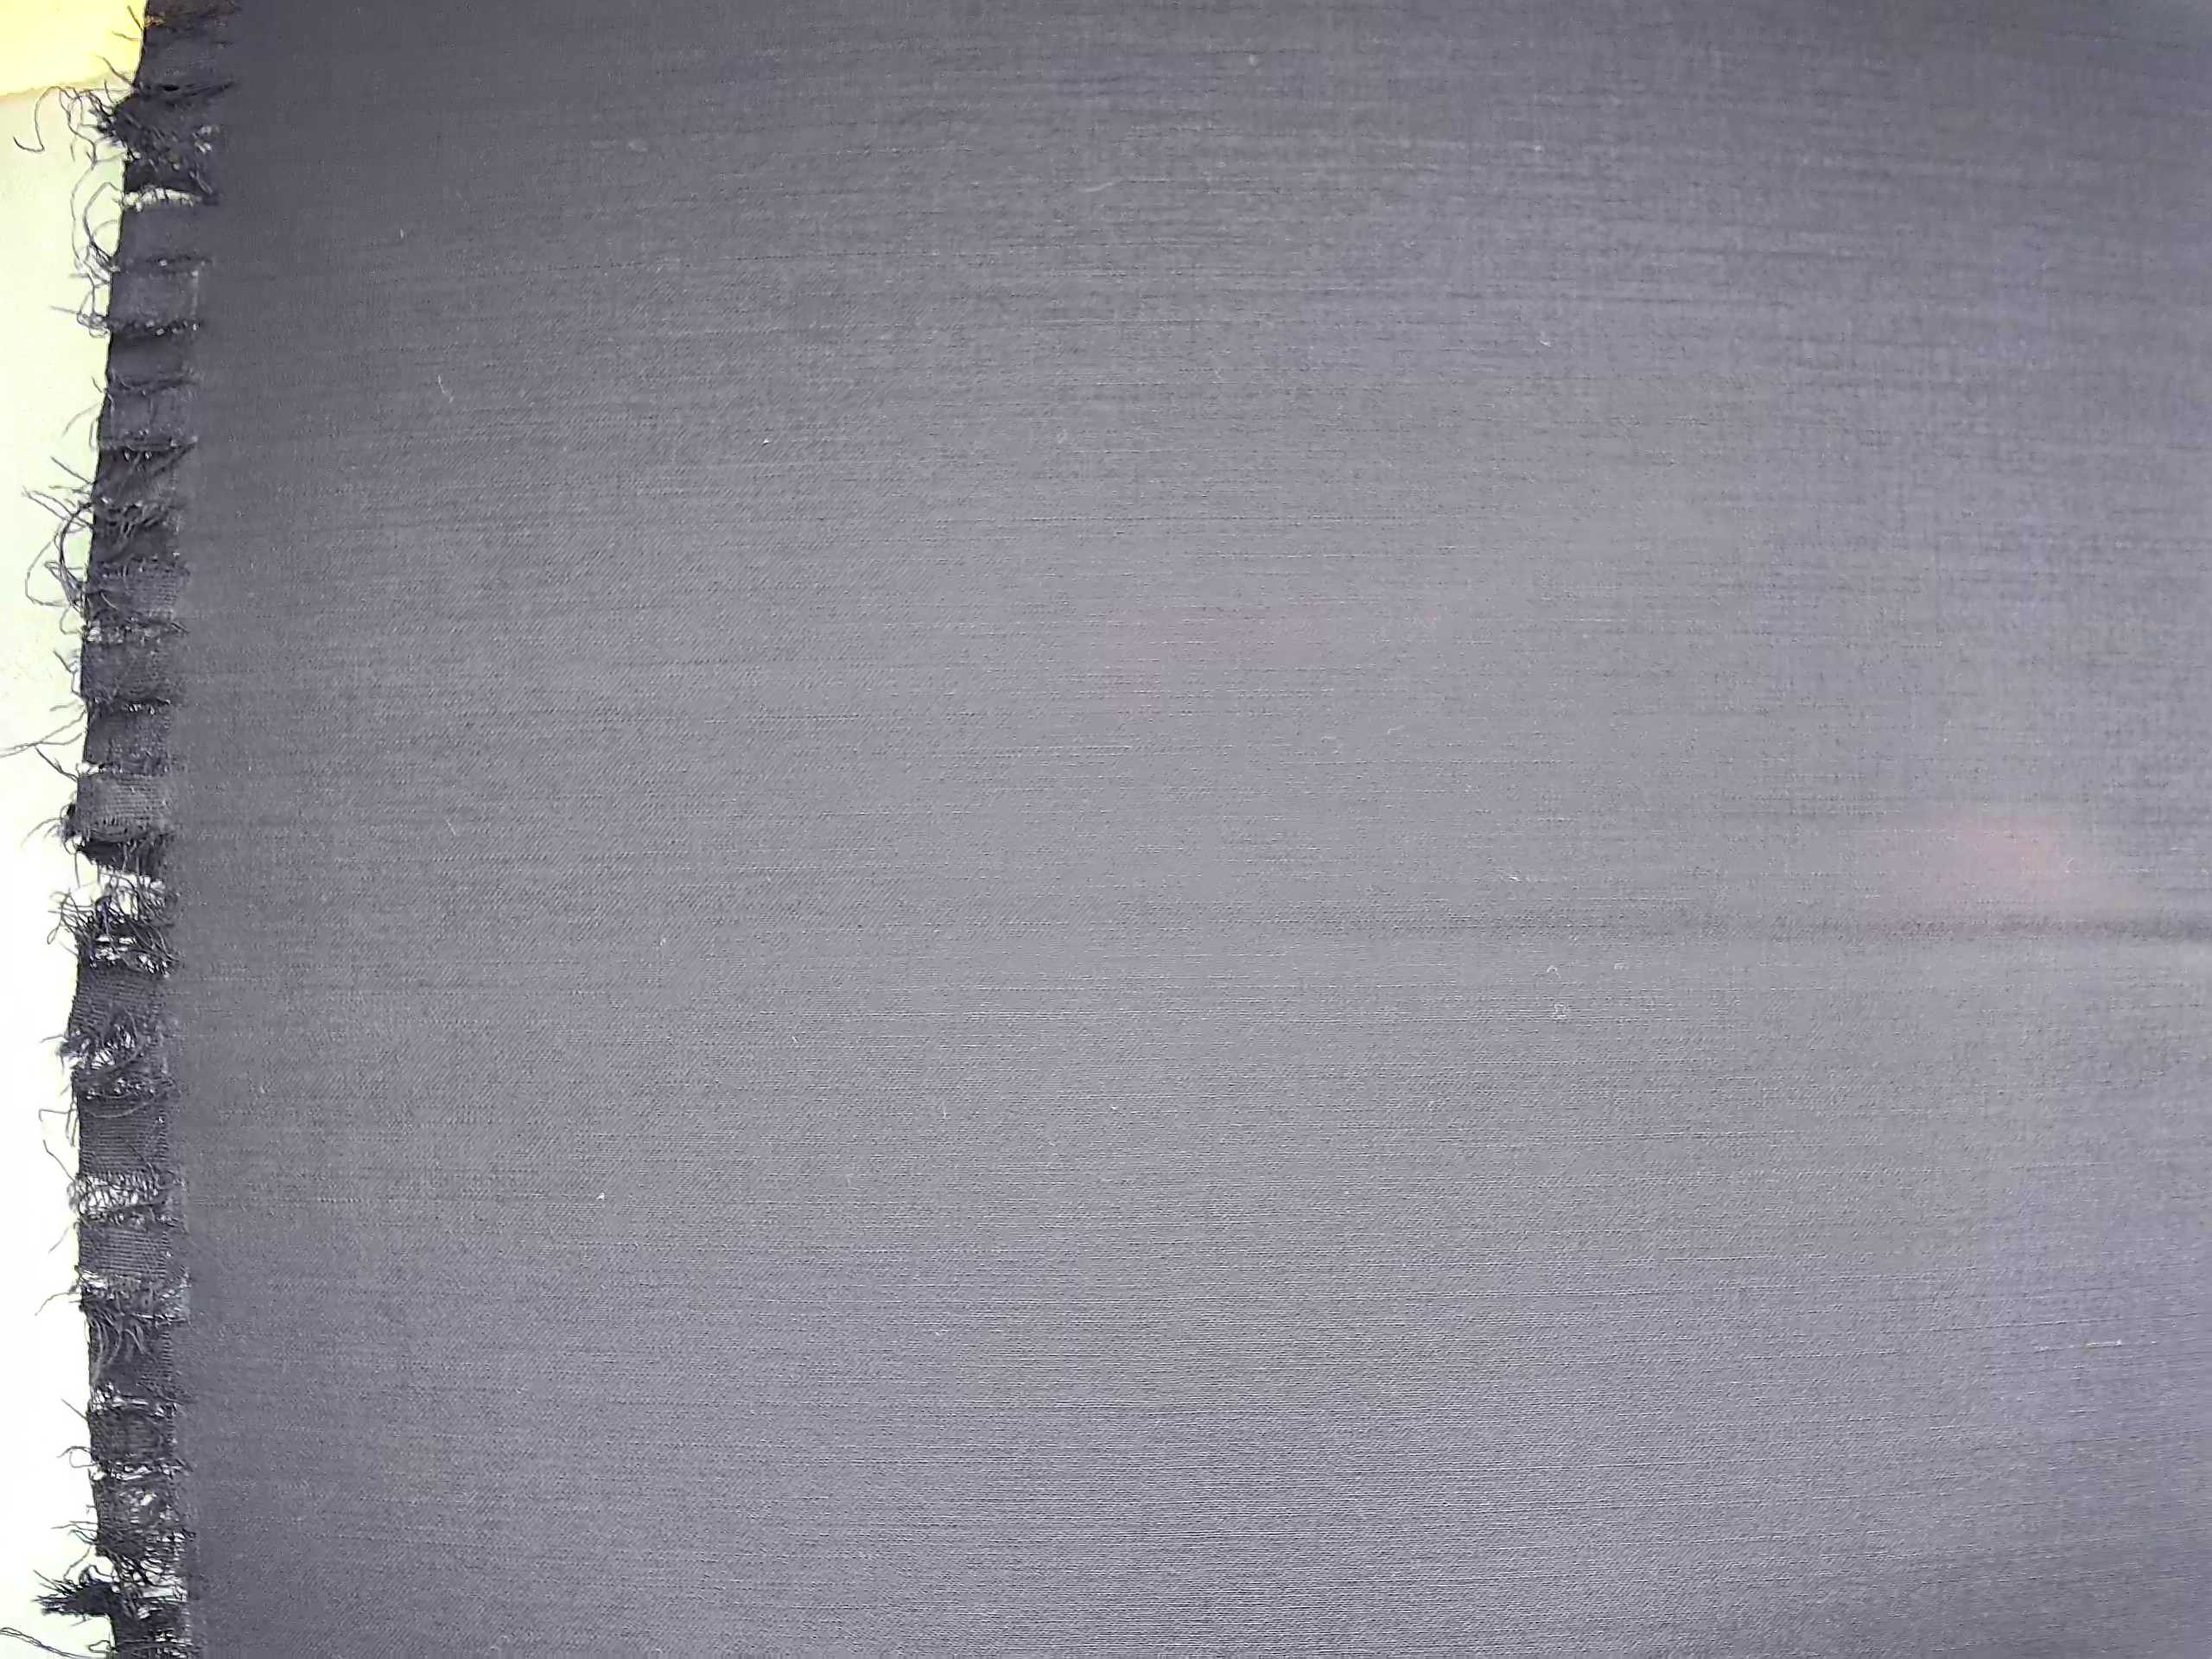others: (30, 49, 230, 1659)
